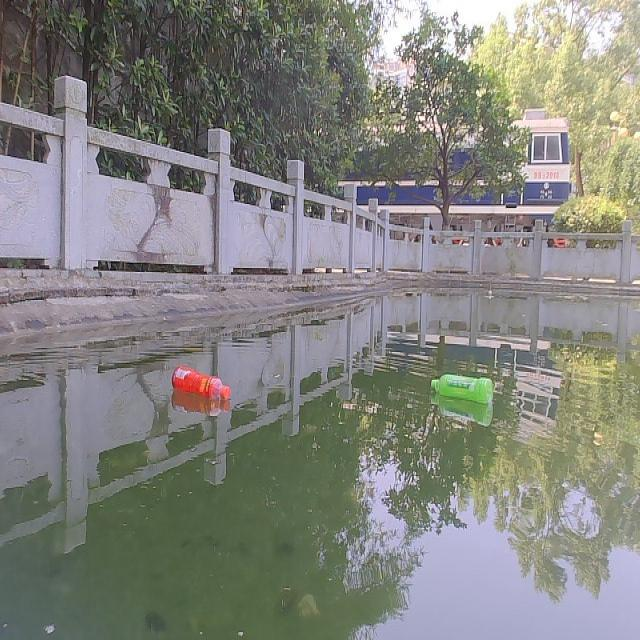Bottle: (171, 363, 232, 401), (429, 370, 494, 402)
